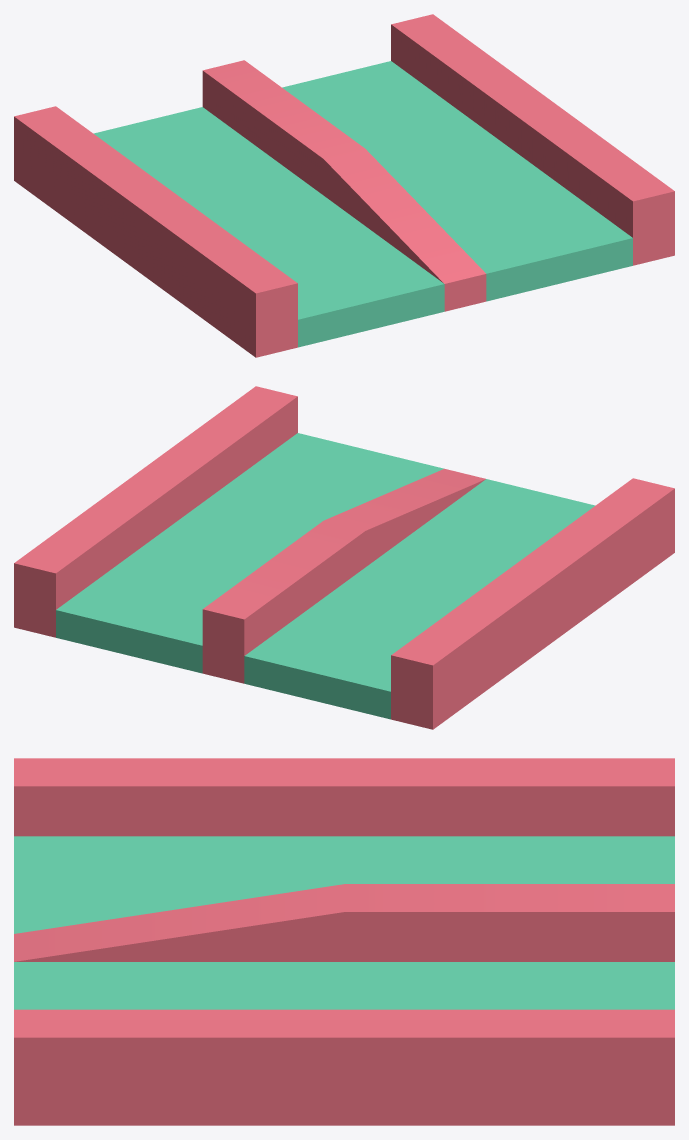
Rendered from splitStart.glb.
The picture shows the model from 3 angles, top to bottom: view 1: azimuth 30°, elevation 25°; view 2: azimuth 150°, elevation 25°; view 3: azimuth 270°, elevation 25°; orthographic projection. The views are drawn at different scales.
Parts seen in each view (by area): view 1: splitStart; view 2: splitStart; view 3: splitStart.
Part boxes in pixels (x1,y1,x2,y2): splitStart: [14, 14, 674, 357]; splitStart: [14, 386, 674, 729]; splitStart: [14, 758, 674, 1125].
Bounding box in the file's own units: 0.9999 × 0.1467 × 0.9999.
